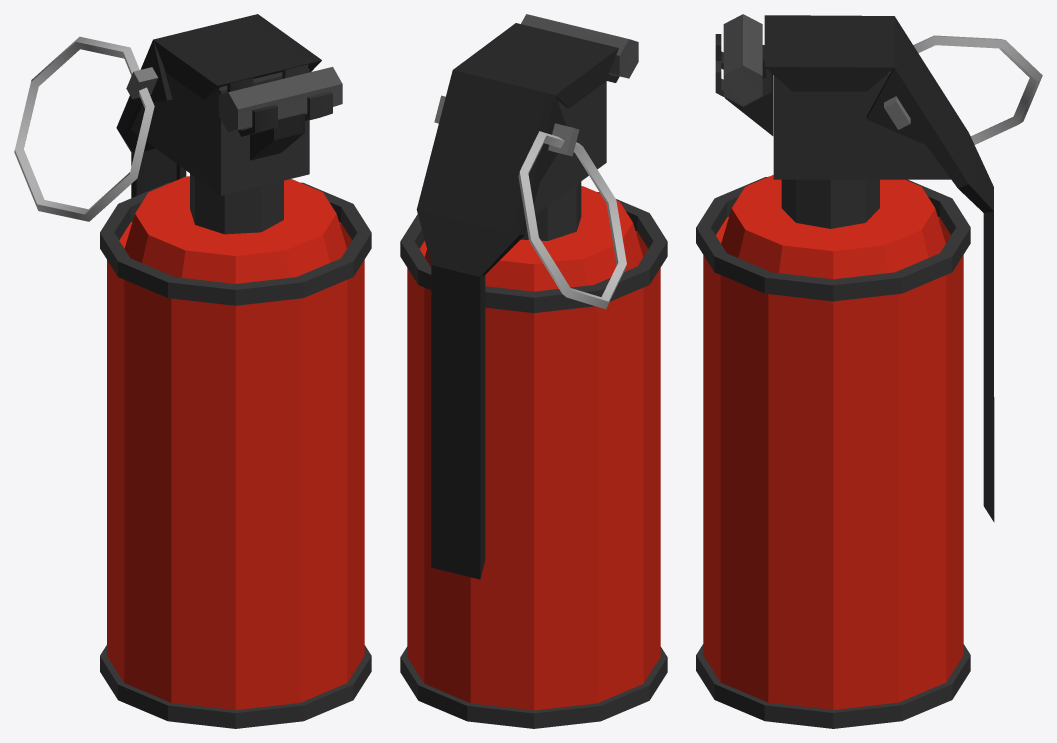
Rendered from Incendiary2.FBX.
3 renders of one model, left to right at view 1: azimuth 30°, elevation 25°; view 2: azimuth 150°, elevation 25°; view 3: azimuth 270°, elevation 25°, orthographic. The views are drawn at different scales.
Parts seen in each view (by area): view 1: Cylinder013, Sphere008, Object010, Object027; view 2: Cylinder013, Sphere008, Object010, Object027; view 3: Cylinder013, Sphere008, Object010.
Boxes of the visible parts, x1,y1,x2,y2 form: Cylinder013: [100, 176, 371, 728]; Sphere008: [116, 14, 342, 234]; Object010: [14, 36, 154, 221]; Object027: [126, 67, 158, 99]; Cylinder013: [400, 186, 667, 728]; Sphere008: [416, 14, 638, 579]; Object010: [518, 131, 626, 309]; Object027: [434, 95, 579, 156]; Cylinder013: [696, 175, 970, 728]; Sphere008: [715, 14, 994, 522]; Object010: [913, 35, 1042, 144].
Size of the model in its own units: 0.1352 by 0.3165 by 0.1575.
